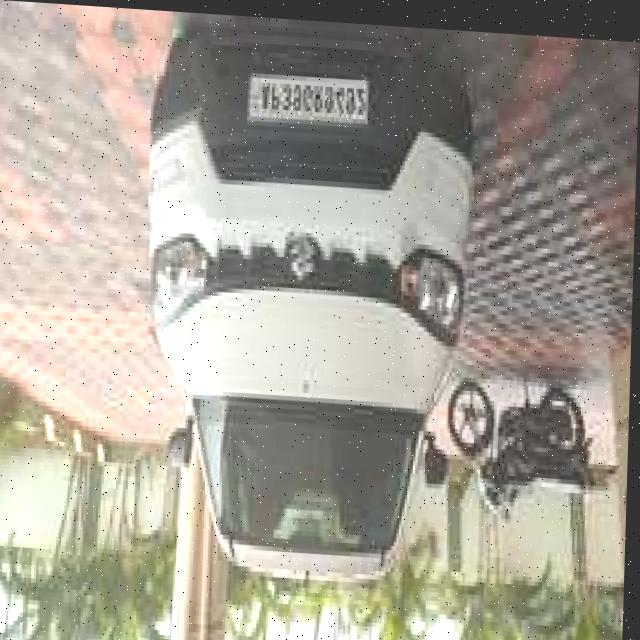plate: (249, 68, 371, 126)
